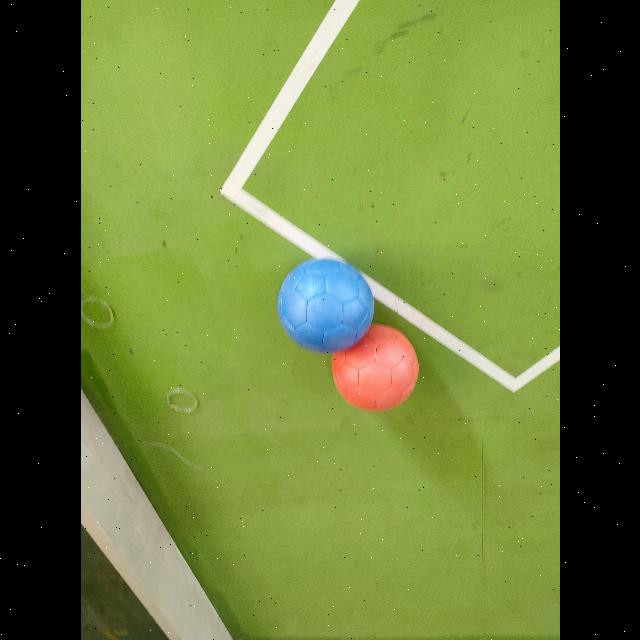B: (277, 259, 373, 353)
R: (331, 325, 417, 411)
